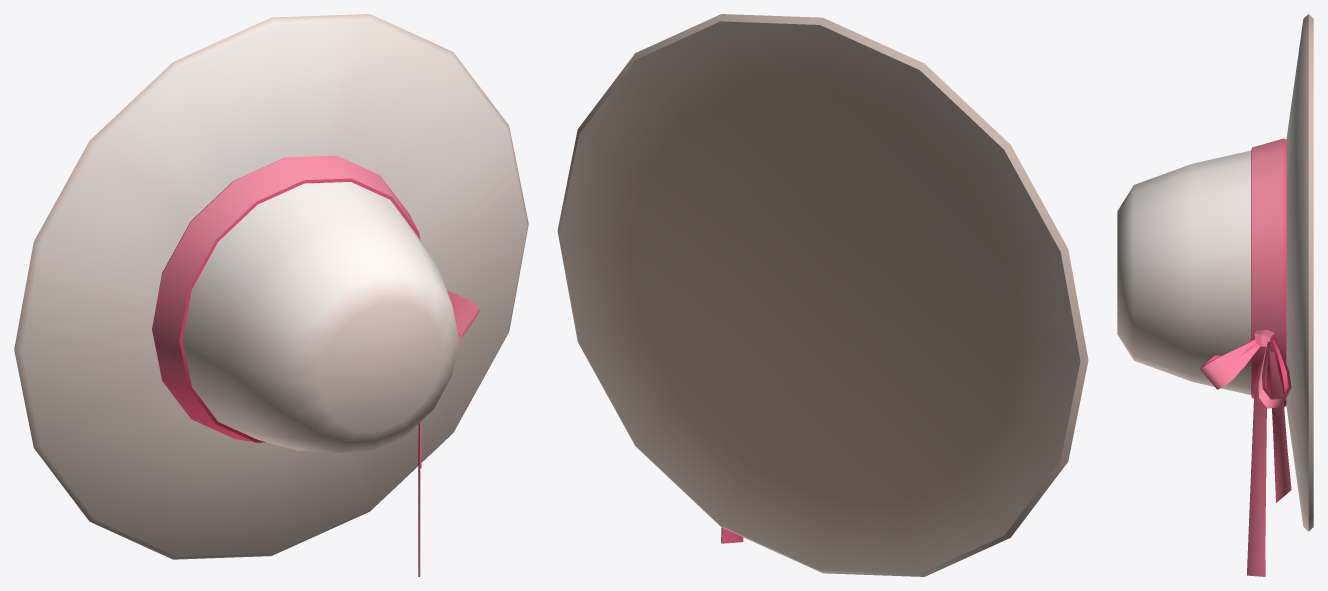
File: Doll_OB_Hat_001.FBX
The picture shows the model from 3 angles, left to right: view 1: azimuth 30°, elevation 25°; view 2: azimuth 150°, elevation 25°; view 3: azimuth 270°, elevation 25°; orthographic projection. The views are drawn at different scales.
Visible parts, largest first — view 1: Doll_OB_Hat_001; view 2: Doll_OB_Hat_001; view 3: Doll_OB_Hat_001.
Boxes of the visible parts, bbox=[...] form: Doll_OB_Hat_001: bbox=[14, 14, 528, 576]; Doll_OB_Hat_001: bbox=[557, 14, 1088, 576]; Doll_OB_Hat_001: bbox=[1117, 14, 1313, 576].
Bounding box in the file's own units: 50.13 × 52.23 × 19.03.
